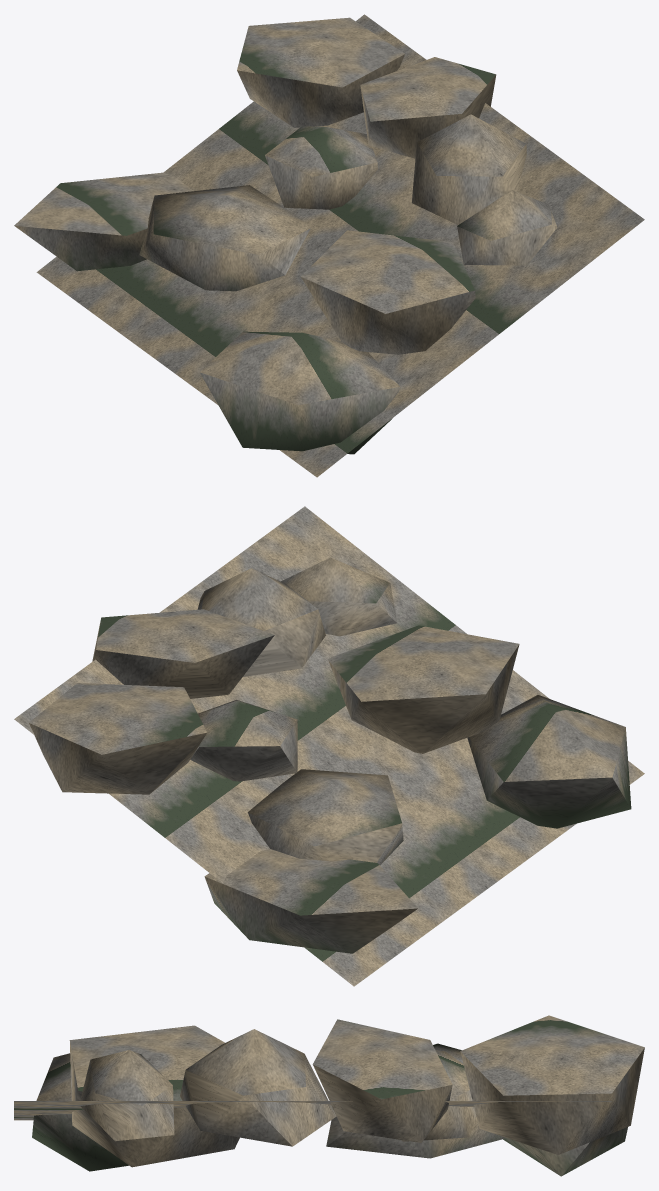
Rendered from SM_Molo_Scogliera_B_LOD2.fbx.
3 renders of one model, top to bottom at view 1: azimuth 30°, elevation 25°; view 2: azimuth 150°, elevation 25°; view 3: azimuth 270°, elevation 25°, orthographic. The views are drawn at different scales.
Parts seen in each view (by area): view 1: SM_Molo_Scogliera_B_LOD2; view 2: SM_Molo_Scogliera_B_LOD2; view 3: SM_Molo_Scogliera_B_LOD2.
Part boxes in pixels (left/top/right/bottom): SM_Molo_Scogliera_B_LOD2: left=14, top=14, right=644, bottom=477; SM_Molo_Scogliera_B_LOD2: left=14, top=506, right=644, bottom=986; SM_Molo_Scogliera_B_LOD2: left=14, top=1015, right=644, bottom=1176.
Size of the model in its own units: 650 by 844 by 345.
Materials: 1 (1 with a texture image).
